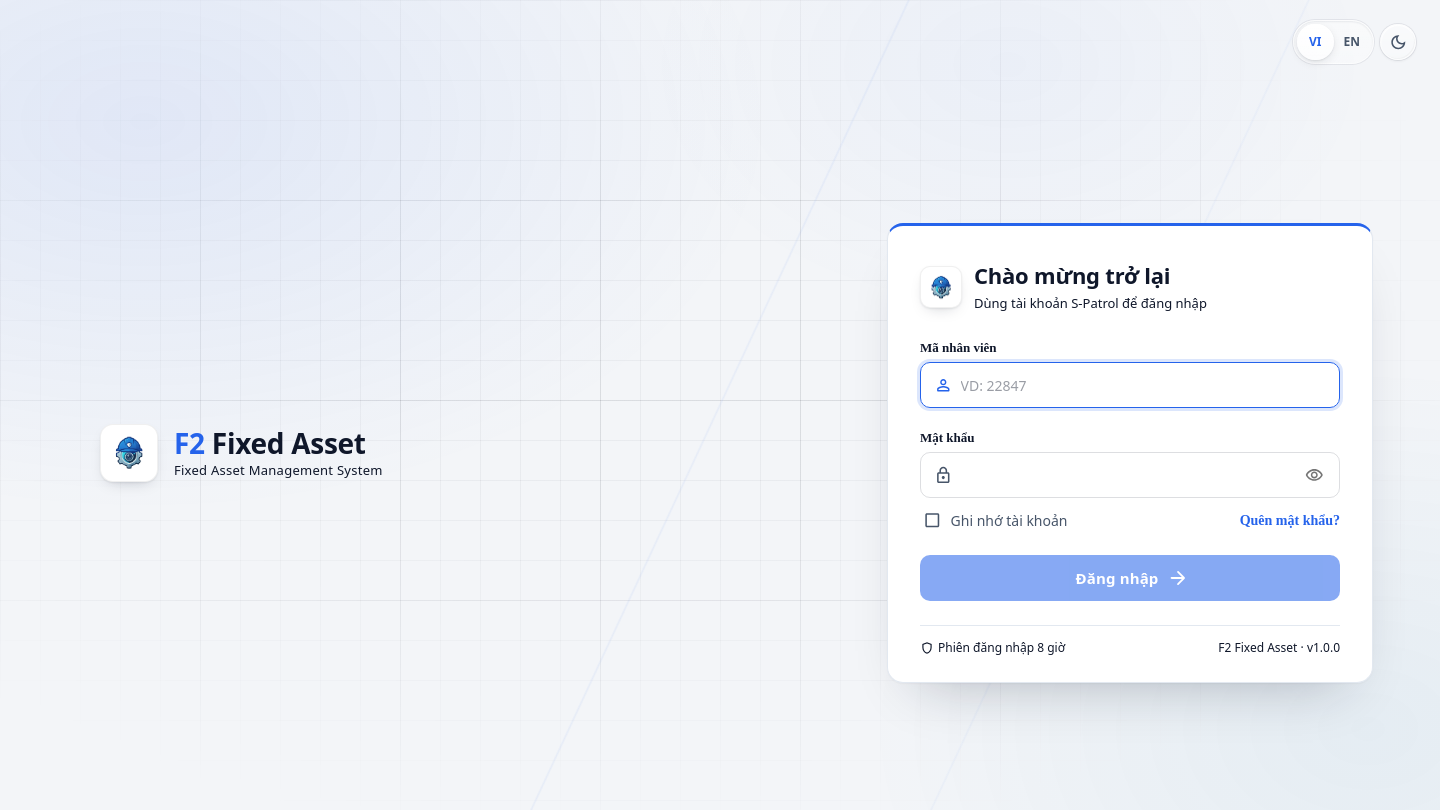
Scenario: LoginPage panel › "Quên mật khẩu?" opens a popover with IT_CONTACT, Esc closes it
Click the button "Quên mật khẩu?". click: (1290, 521)
box: [1240, 513, 1340, 529]
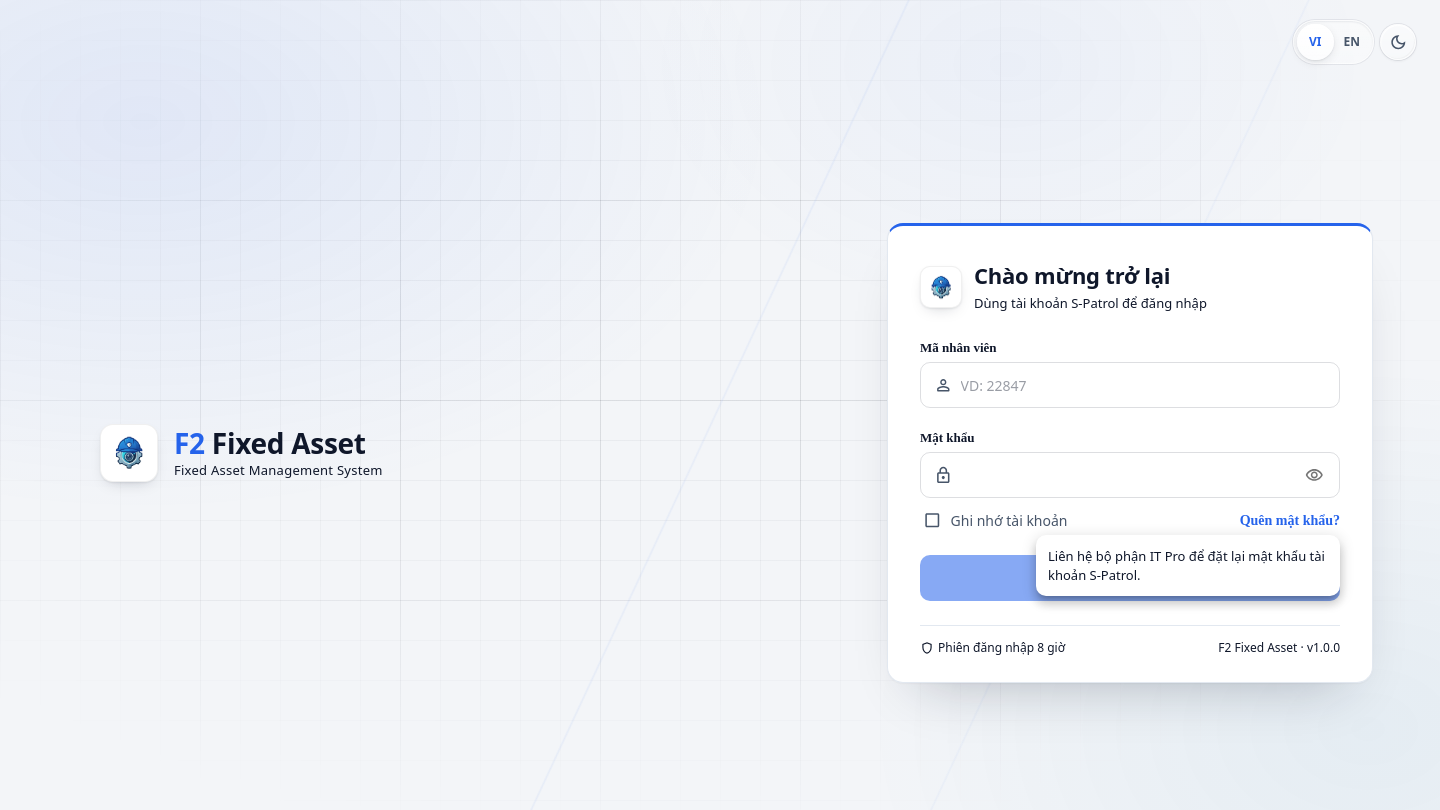
Expected: the text with test id "it-contact" reads "Liên hệ bộ phận IT Pro để đặt lại mật khẩu tài khoản S-Patrol.", [1048, 547, 1325, 584]
Press Escape in the dialog named "Quên mật khẩu", box [1036, 535, 1340, 596]
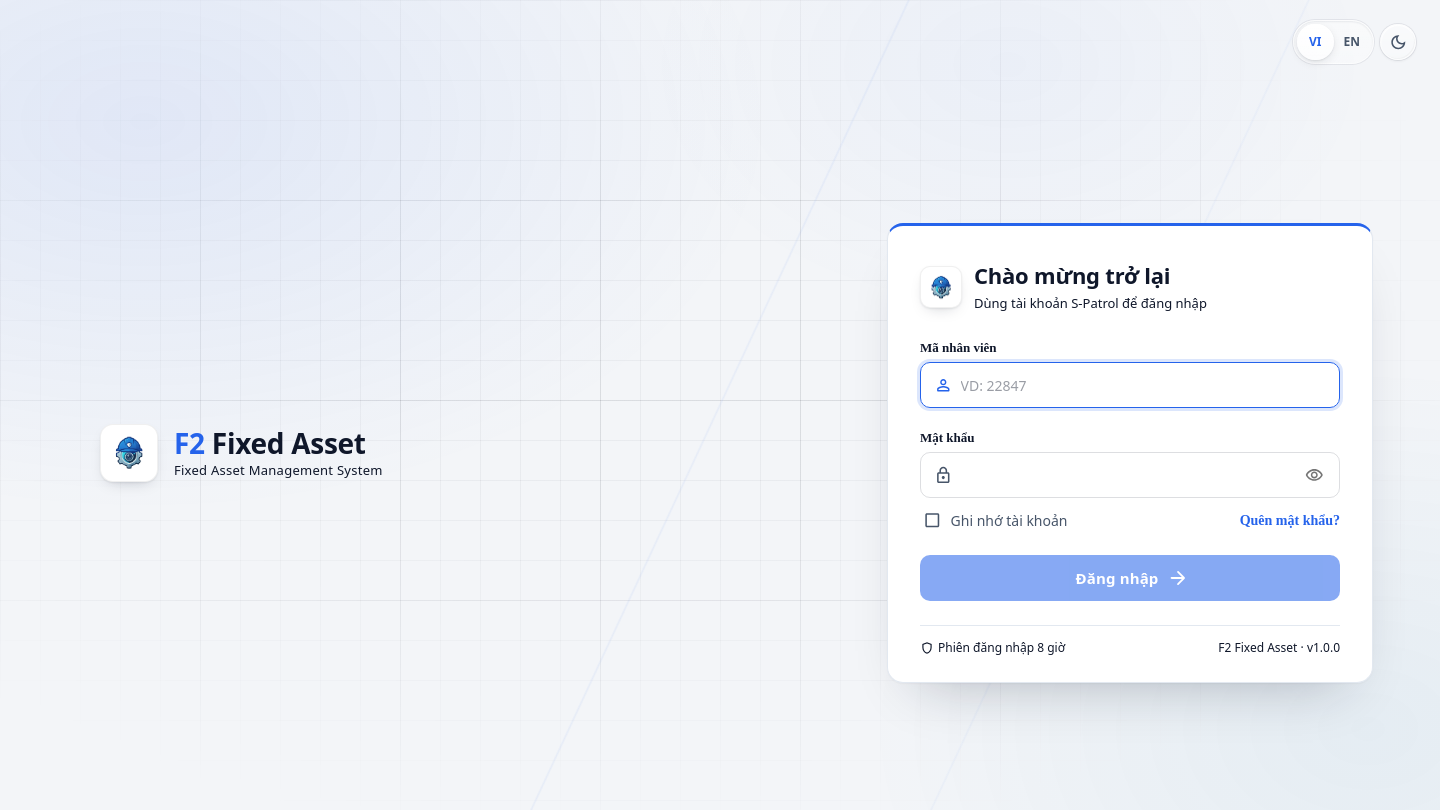
Expected: the text with test id "it-contact" is gone
